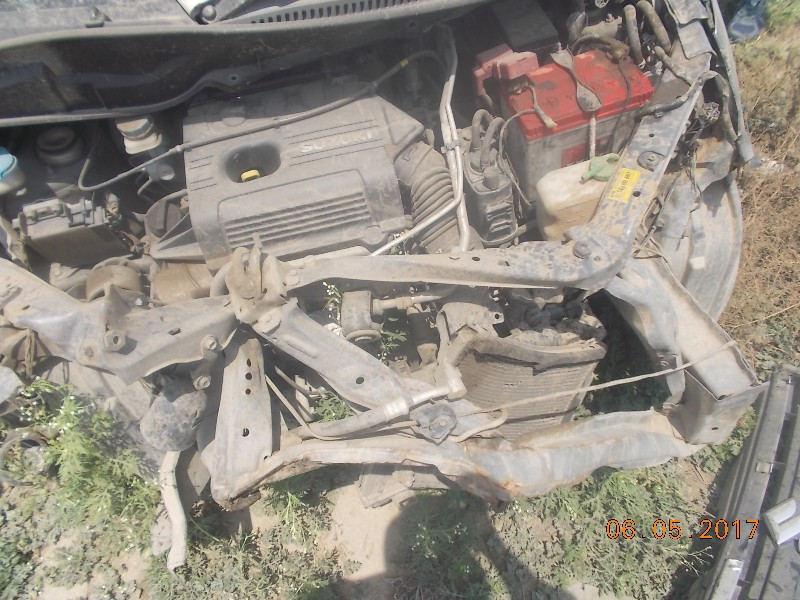Large_tear_or_damage: (7, 33, 766, 517)
